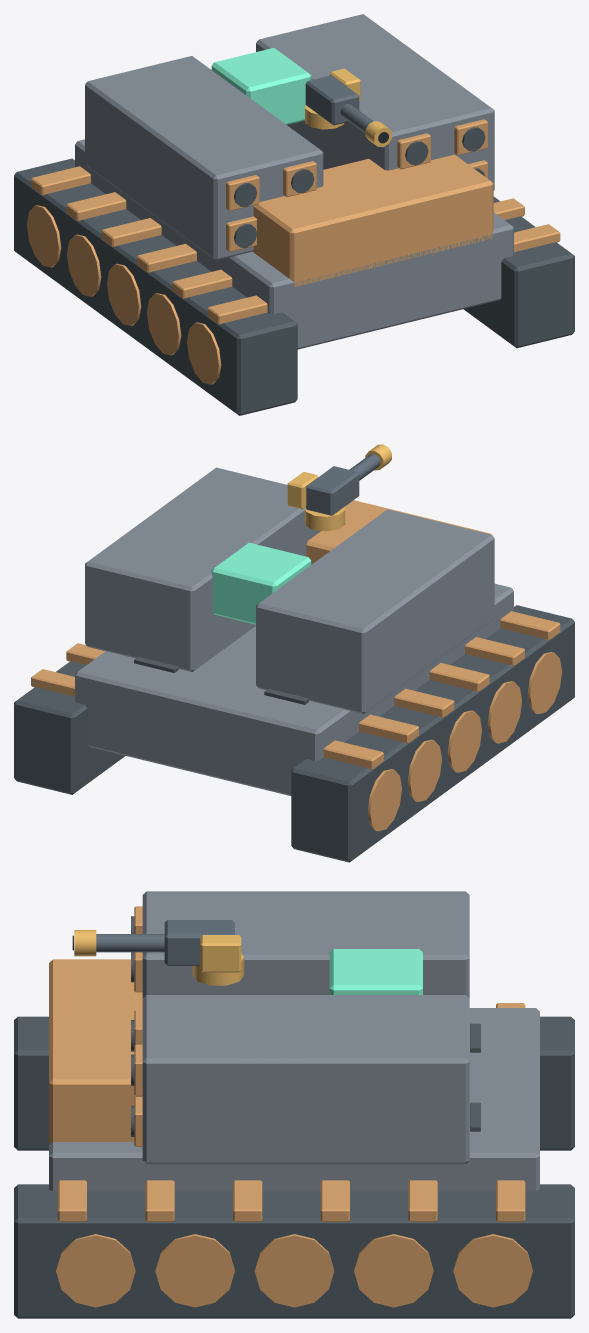
File: boss-missile.glb
3 renders of one model, top to bottom at view 1: azimuth 30°, elevation 25°; view 2: azimuth 150°, elevation 25°; view 3: azimuth 270°, elevation 25°, orthographic. The views are drawn at different scales.
Parts seen in each view (by area): view 1: MissilePod, Tread, Track, Chassis, Core, LaunchTube, Detail launch bore, Auxiliary receiver, Auxiliary swivel; view 2: MissilePod, Track, Chassis, Tread, Core, Auxiliary receiver, Auxiliary swivel; view 3: MissilePod, Track, Tread, Chassis, Core, Auxiliary receiver, Auxiliary swivel, LaunchTube, Detail launch bore.
Part boxes in pixels (left/top/right/bottom): MissilePod: left=85, top=14, right=494, bottom=260; Tread: left=27, top=154, right=560, bottom=384; Track: left=14, top=158, right=574, bottom=415; Chassis: left=75, top=139, right=513, bottom=349; Core: left=211, top=48, right=311, bottom=124; LaunchTube: left=226, top=119, right=487, bottom=251; Detail launch bore: left=234, top=127, right=485, bottom=247; Auxiliary receiver: left=305, top=75, right=373, bottom=133; Auxiliary swivel: left=305, top=68, right=391, bottom=147; MissilePod: left=85, top=467, right=494, bottom=713; Track: left=14, top=605, right=574, bottom=862; Chassis: left=75, top=583, right=513, bottom=795; Tread: left=31, top=500, right=561, bottom=831; Core: left=211, top=542, right=311, bottom=624; Auxiliary receiver: left=305, top=454, right=380, bottom=515; Auxiliary swivel: left=287, top=444, right=391, bottom=531; MissilePod: left=142, top=891, right=469, bottom=1164; Track: left=14, top=1016, right=574, bottom=1318; Tread: left=49, top=959, right=532, bottom=1307; Chassis: left=49, top=1008, right=539, bottom=1191; Core: left=329, top=949, right=422, bottom=994; Auxiliary receiver: left=96, top=920, right=234, bottom=965; Auxiliary swivel: left=74, top=930, right=244, bottom=985; LaunchTube: left=134, top=906, right=142, bottom=1146; Detail launch bore: left=131, top=916, right=134, bottom=1136.
Bounding box in the file's own units: 4.21 × 2.75 × 4.8.
